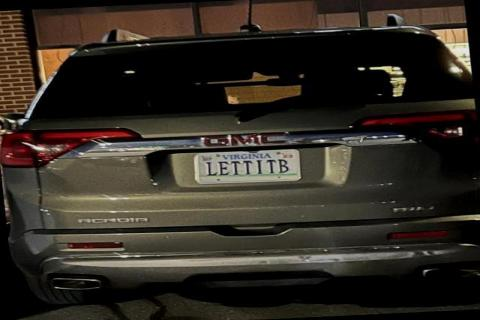LicensePlate: (192, 149, 300, 183)
